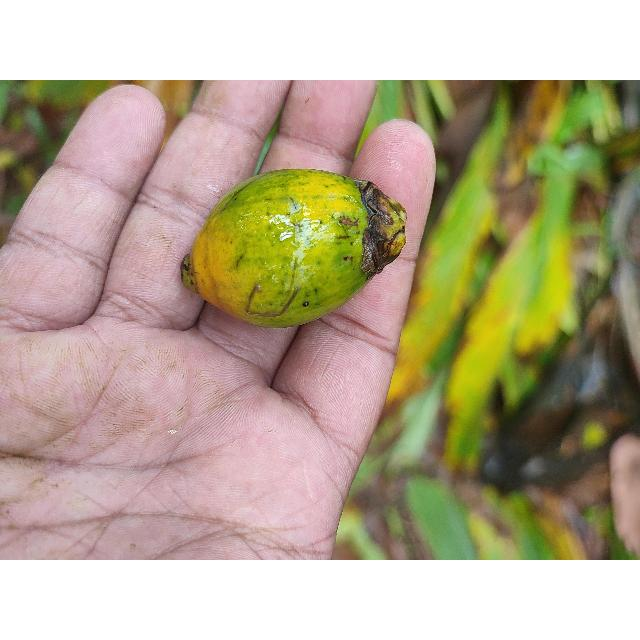good: (178, 169, 406, 330)
